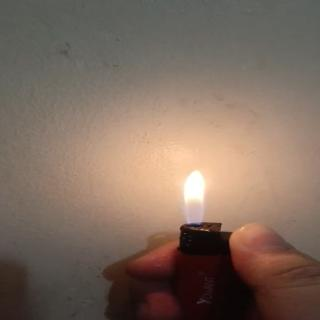fire: (170, 164, 219, 228)
